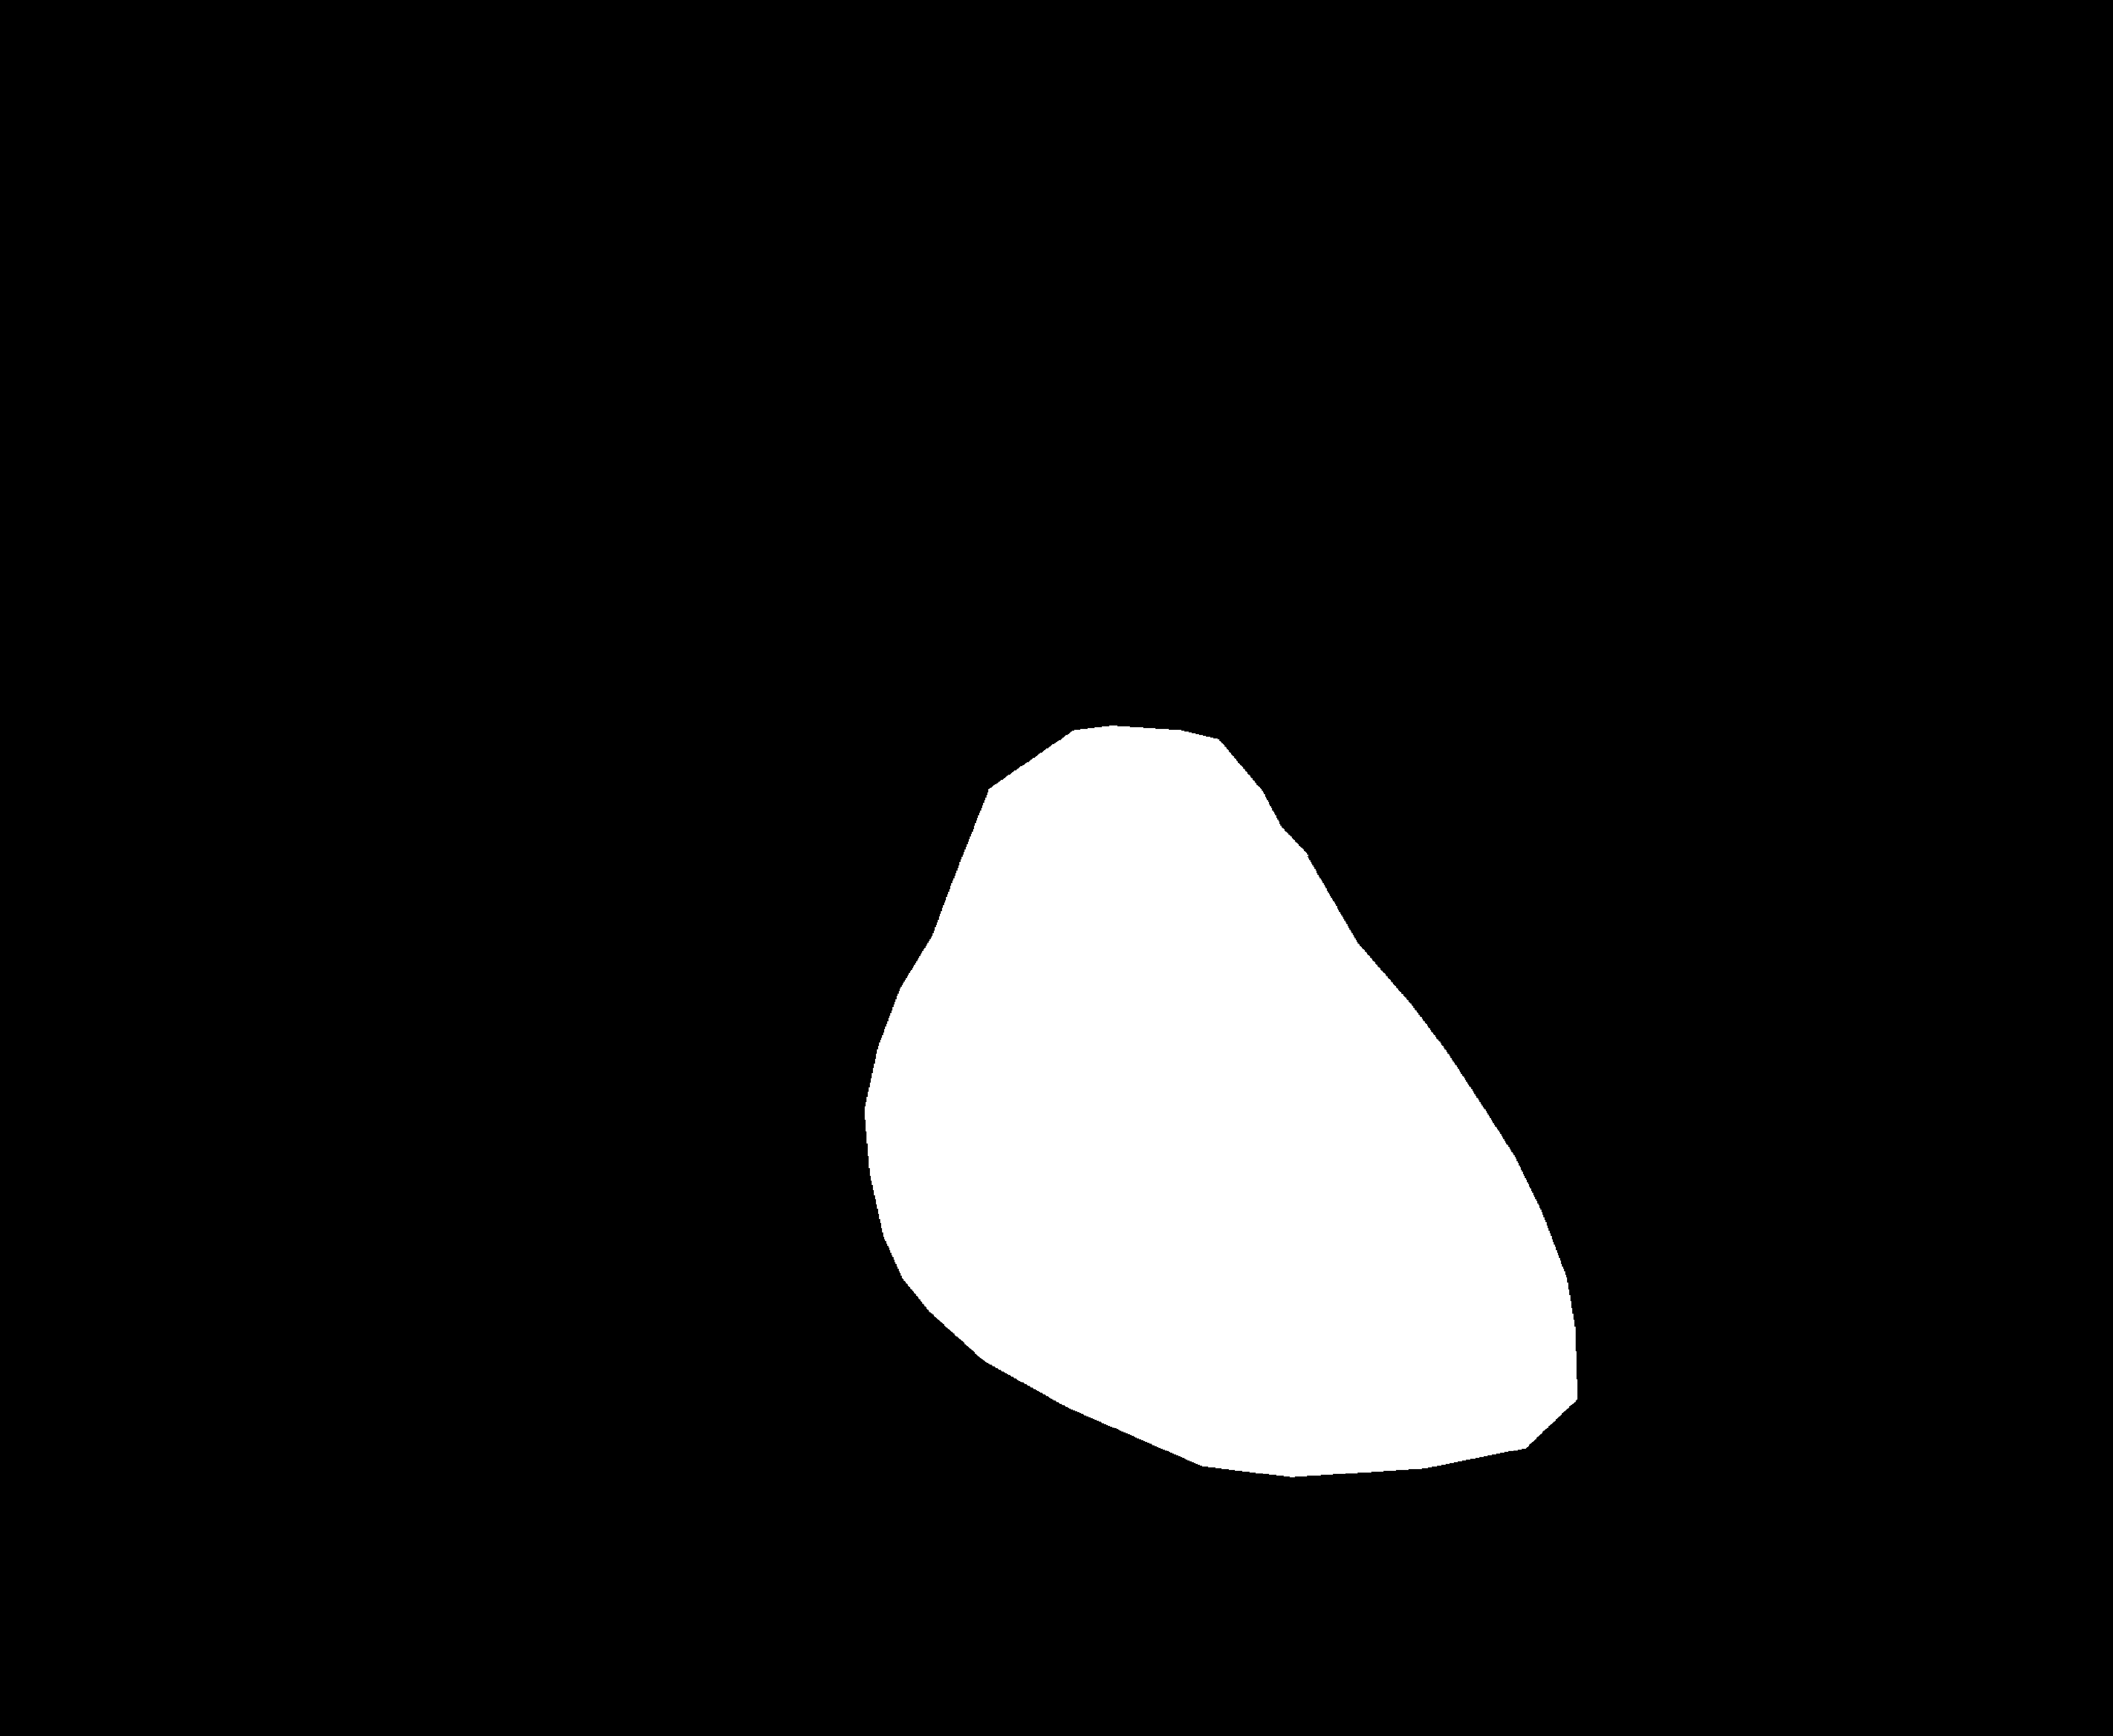heart: (858, 930, 1576, 1546)
left_lung: (232, 204, 1041, 1601)
right_lung: (1183, 186, 1948, 1580)
